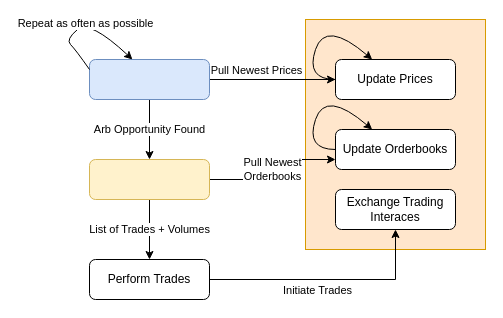
Image size: 503x318. Some labels were removed from this diagram. Here are the shapes that lost their labels. From the top down, the centre of each, then its label:
At (149,79): "Tick (Detect Arb)".
At (149,179): "Evaluate Orderbook".
